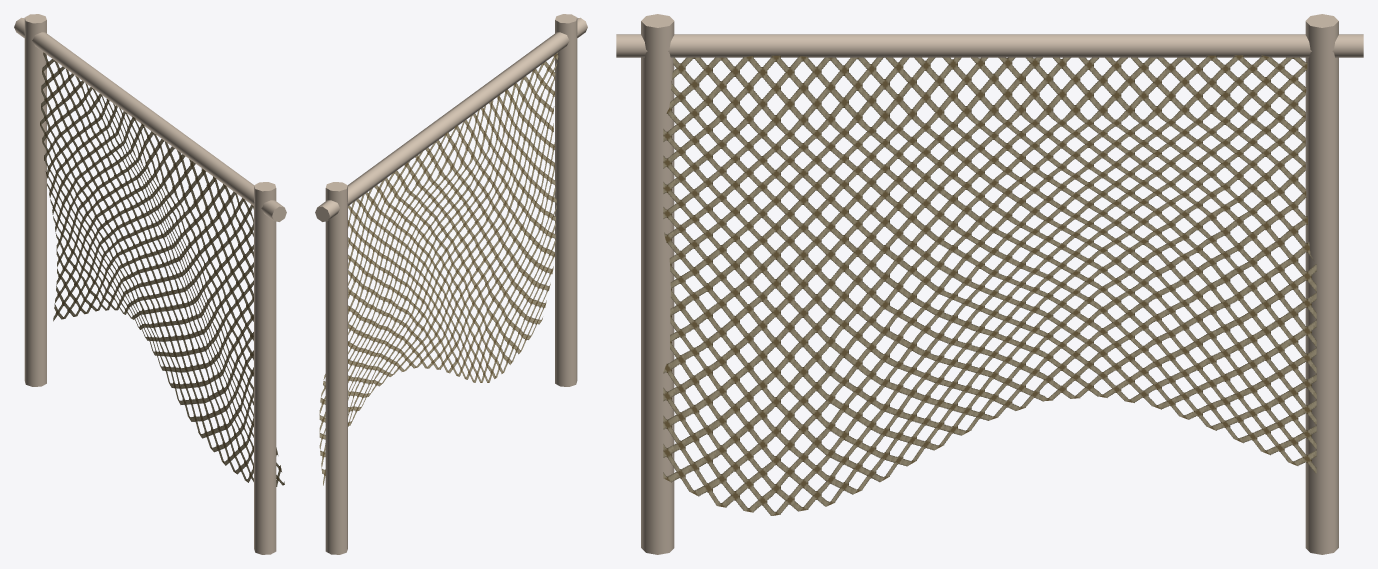
Rendered from HarborNetRack.gltf.
The picture shows the model from 3 angles, left to right: view 1: azimuth 30°, elevation 25°; view 2: azimuth 150°, elevation 25°; view 3: azimuth 270°, elevation 25°; orthographic projection. The views are drawn at different scales.
Visible parts, largest first — view 1: HarborNetRack; view 2: HarborNetRack; view 3: HarborNetRack.
Boxes of the visible parts, x1,y1,x2,y2 form: HarborNetRack: (14,14,286,554); HarborNetRack: (315,14,587,554); HarborNetRack: (616,14,1363,554).
Size of the model in its own units: 0.2048 by 2.1 by 2.7.
